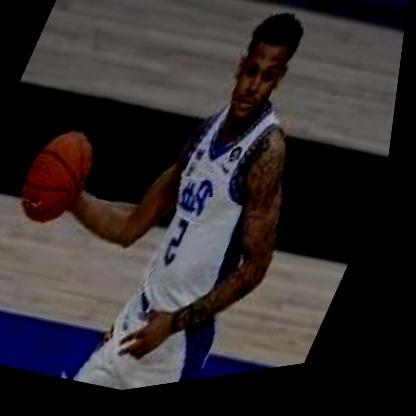basketball: (10, 117, 115, 244)
